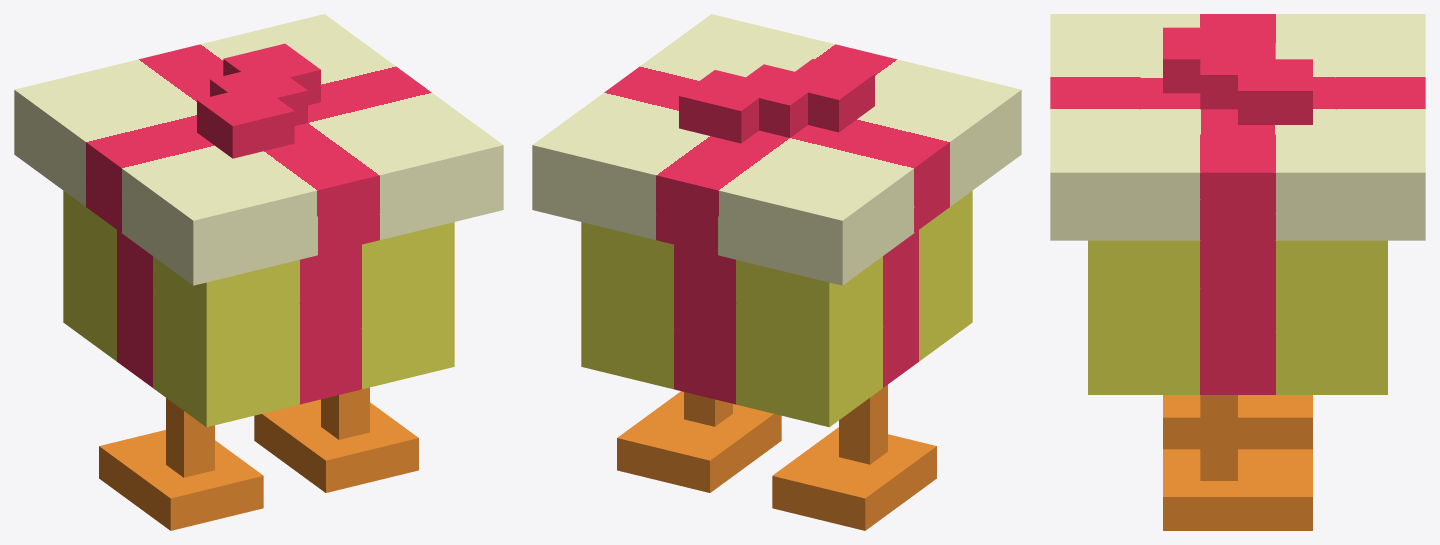
Rendered from char_giftee.dae.
3 views of the same model, side by side, from view 1: azimuth 30°, elevation 25°; view 2: azimuth 150°, elevation 25°; view 3: azimuth 270°, elevation 25° (orthographic). The views are drawn at different scales.
Parts seen in each view (by area): view 1: char_giftee; view 2: char_giftee; view 3: char_giftee.
Part boxes in pixels (x1,y1,x2,y2): char_giftee: (14, 14, 503, 530); char_giftee: (532, 14, 1021, 530); char_giftee: (1050, 14, 1425, 530).
Bounding box in the file's own units: 1 × 1.2 × 1.
